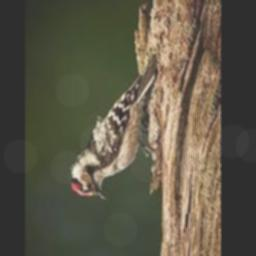Woodpecker: (69, 57, 156, 201)
